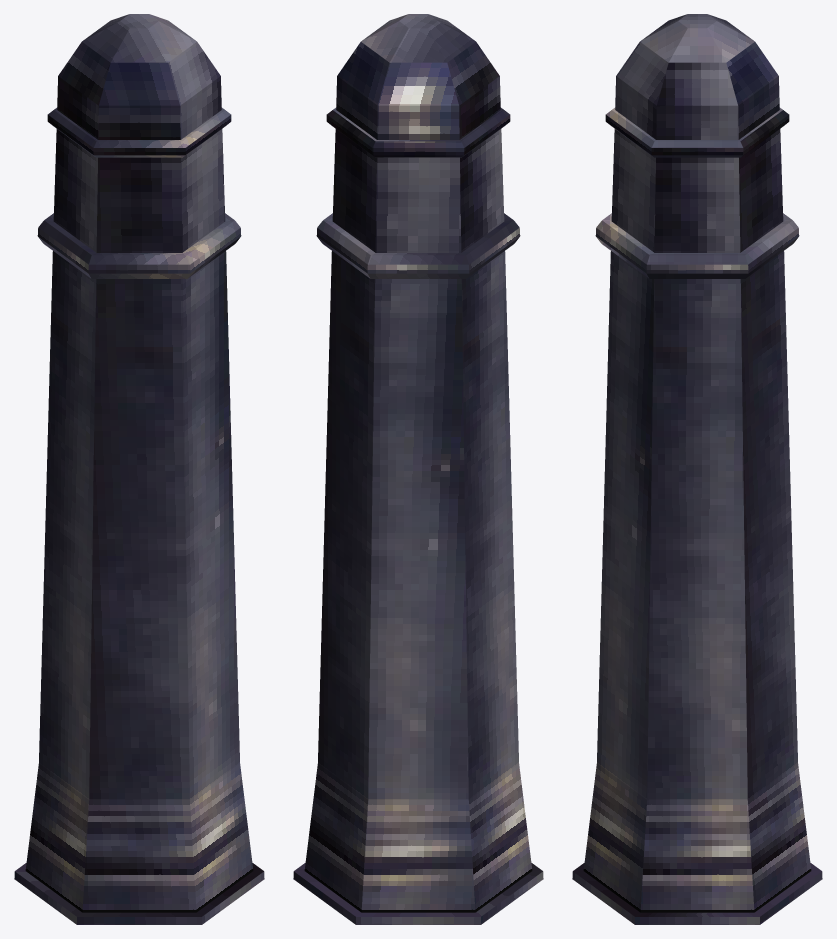
Rendered from retro_bollard_detailed.glb.
3 renders of one model, left to right at view 1: azimuth 30°, elevation 25°; view 2: azimuth 150°, elevation 25°; view 3: azimuth 270°, elevation 25°, orthographic.
Visible parts, largest first — view 1: retro_bollard_detailed; view 2: retro_bollard_detailed; view 3: retro_bollard_detailed.
Boxes of the visible parts, x1,y1,x2,y2 form: retro_bollard_detailed: [14, 14, 264, 924]; retro_bollard_detailed: [293, 14, 543, 924]; retro_bollard_detailed: [572, 14, 822, 924].
Bounding box in the file's own units: 0.2974 × 1.3 × 0.3434.
1 material, 1 textured.
